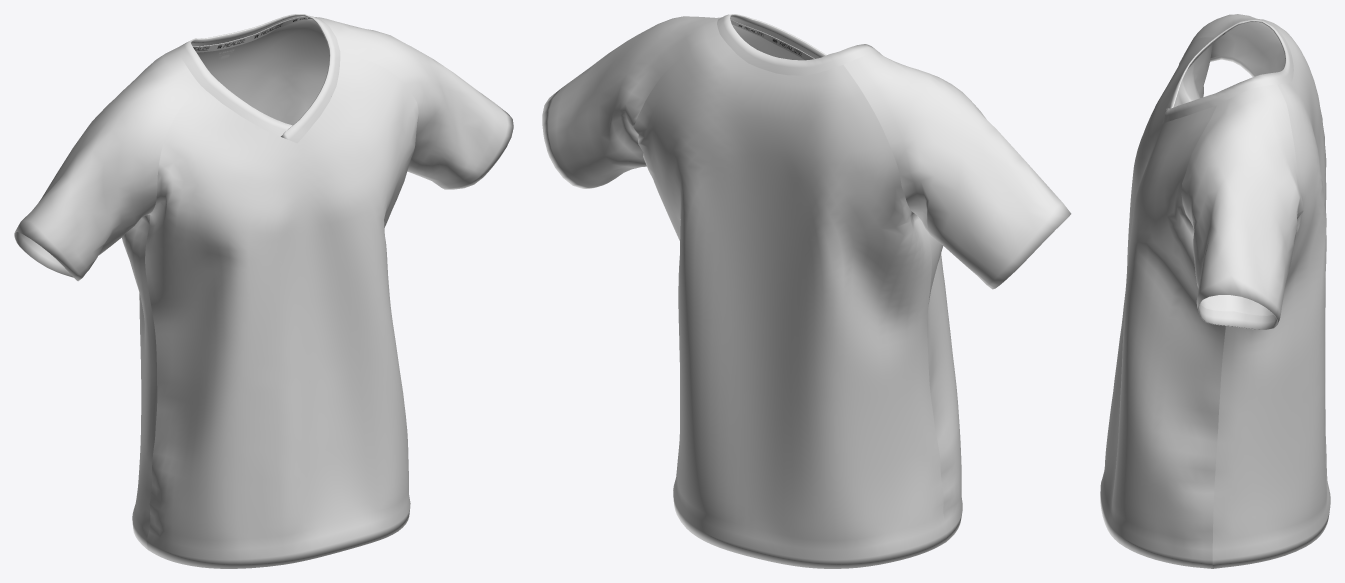
The picture shows the model from 3 angles, left to right: view 1: azimuth 30°, elevation 25°; view 2: azimuth 150°, elevation 25°; view 3: azimuth 270°, elevation 25°; orthographic projection. The views are drawn at different scales.
Visible parts, largest first — view 1: model_front, model_sleeve_right, model_sleeve_left, model_inside, model_back, model_collar, model_sweatband; view 2: model_back, model_sleeve_right, model_sleeve_left, model_front, model_collar, model_inside; view 3: model_front, model_back, model_sleeve_left, model_inside, model_collar, model_sleeve_right.
Part boxes in pixels (x1,y1,x2,y2): model_front: (145, 52, 418, 568); model_sleeve_right: (14, 47, 200, 281); model_sleeve_left: (315, 17, 513, 189); model_inside: (192, 16, 329, 125); model_back: (122, 214, 157, 549); model_collar: (178, 14, 340, 143); model_sweatband: (193, 17, 312, 52); model_back: (633, 34, 947, 568); model_sleeve_right: (844, 53, 1071, 289); model_sleeve_left: (542, 16, 721, 188); model_front: (926, 230, 962, 541); model_collar: (717, 14, 882, 75); model_inside: (731, 20, 814, 60); model_front: (1100, 37, 1225, 568); model_back: (1212, 29, 1330, 568); model_sleeve_left: (1181, 84, 1303, 329); model_inside: (1174, 22, 1285, 315); model_collar: (1162, 20, 1293, 123); model_sleeve_right: (1187, 14, 1284, 76).
Size of the model in its own units: 0.7105 by 0.6578 by 0.2959.
Materials: 4 (2 with a texture image).
